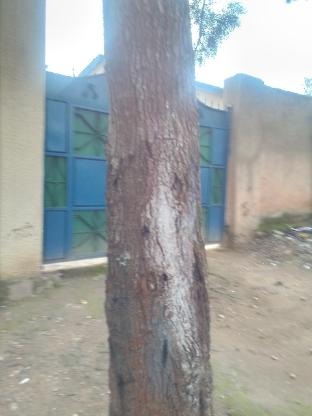tree: (96, 0, 225, 416)
